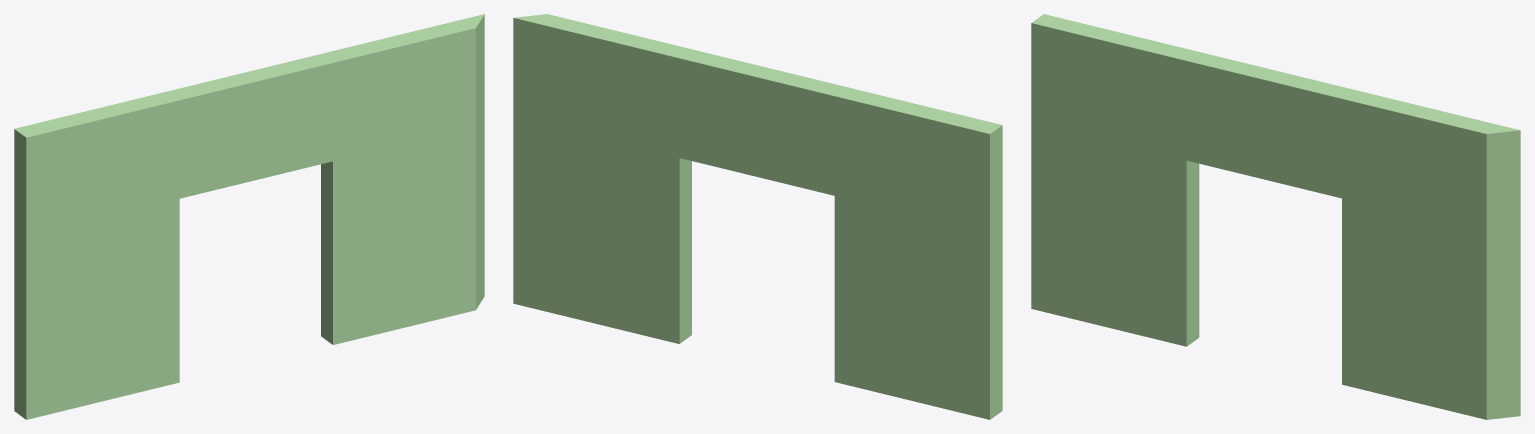
The model's file is Walls and Floors with Doors.fbx_CWall_Outer_Flat_Door.fbx.
3 renders of one model, left to right at view 1: azimuth 30°, elevation 25°; view 2: azimuth 150°, elevation 25°; view 3: azimuth 330°, elevation 25°, orthographic.
Visible parts, largest first — view 1: CWall Outer Flat Door; view 2: CWall Outer Flat Door; view 3: CWall Outer Flat Door.
Boxes of the visible parts, x1,y1,x2,y2 form: CWall Outer Flat Door: (14,14,484,419); CWall Outer Flat Door: (513,14,1002,419); CWall Outer Flat Door: (1031,14,1520,419).
Size of the model in its own units: 1571 by 900 by 70.71.
